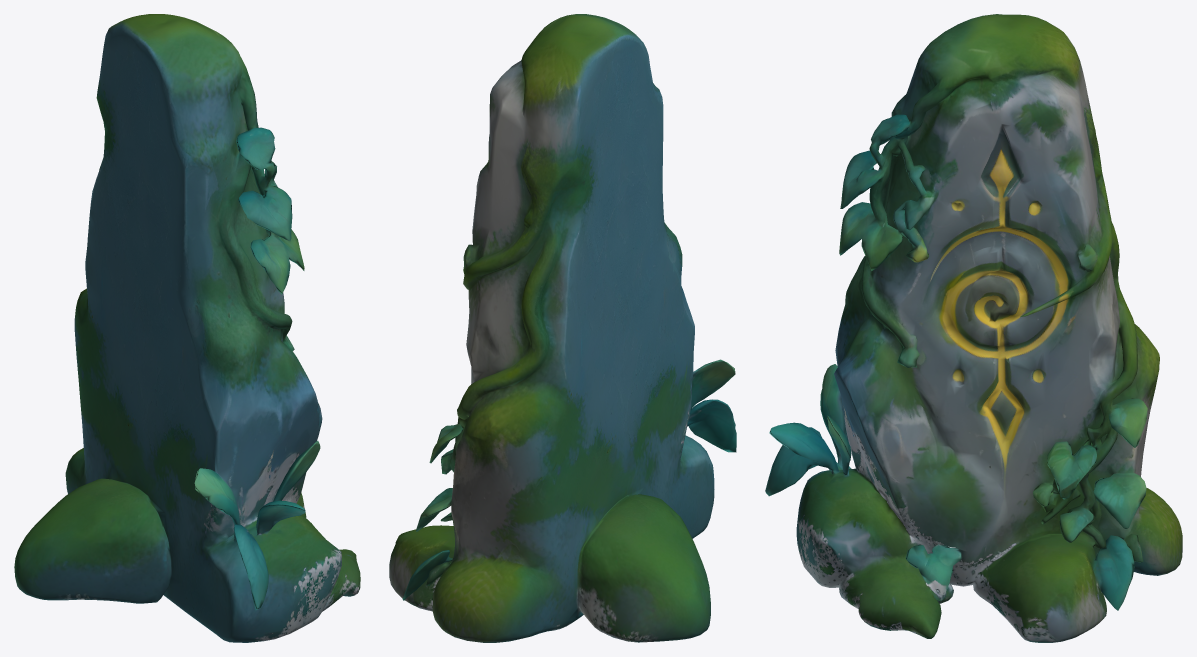
Rendered from checkpoint_stone_3d.r1.glb.
3 renders of one model, left to right at view 1: azimuth 30°, elevation 25°; view 2: azimuth 150°, elevation 25°; view 3: azimuth 270°, elevation 25°, orthographic. The views are drawn at different scales.
Visible parts, largest first — view 1: tripo_node_37ba09d6-ab7e-4016-8d54-52b28066c115; view 2: tripo_node_37ba09d6-ab7e-4016-8d54-52b28066c115; view 3: tripo_node_37ba09d6-ab7e-4016-8d54-52b28066c115.
Part boxes in pixels (left/top/right/bottom): tripo_node_37ba09d6-ab7e-4016-8d54-52b28066c115: left=14, top=14, right=360, bottom=642; tripo_node_37ba09d6-ab7e-4016-8d54-52b28066c115: left=389, top=14, right=736, bottom=642; tripo_node_37ba09d6-ab7e-4016-8d54-52b28066c115: left=765, top=14, right=1182, bottom=642.
Bounding box in the file's own units: 0.5465 × 0.9999 × 0.6884.
1 material, 1 textured.
